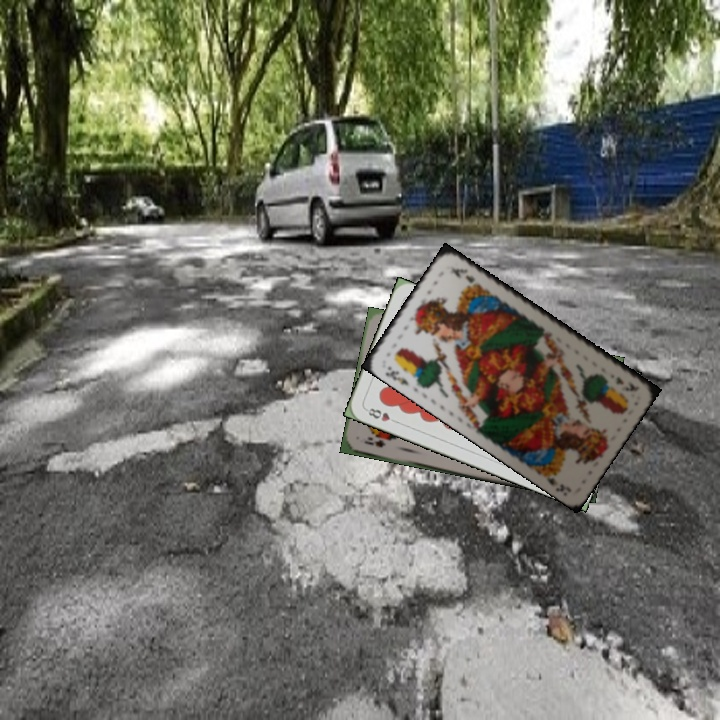EK: (382, 362, 412, 388), (612, 373, 642, 394)
H8: (362, 404, 401, 426)
SO: (360, 433, 388, 450)
